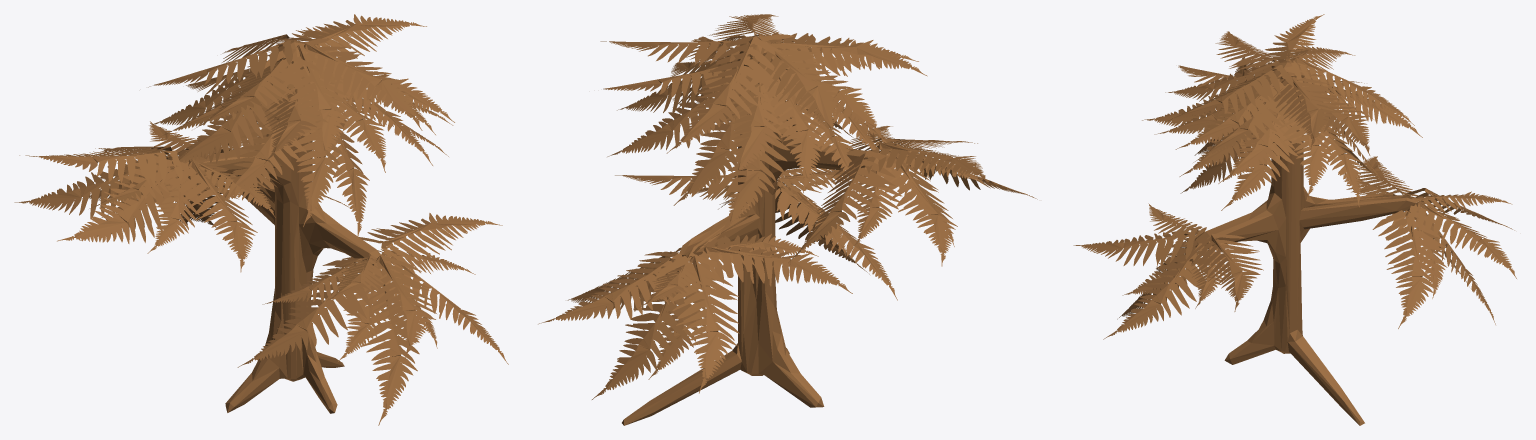
The model's file is tree 3.fbx.
3 views of the same model, side by side, from view 1: azimuth 30°, elevation 25°; view 2: azimuth 150°, elevation 25°; view 3: azimuth 270°, elevation 25° (orthographic). The views are drawn at different scales.
Visible parts, largest first — view 1: TREE_3; view 2: TREE_3; view 3: TREE_3.
Part boxes in pixels (x1,y1,x2,y2): TREE_3: (14,14,508,425); TREE_3: (538,14,1037,425); TREE_3: (1073,14,1516,425).
Bounding box in the file's own units: 583 × 485 × 603.
